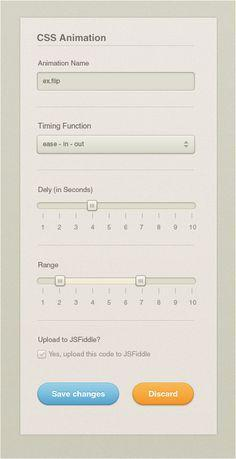button: (37, 382, 121, 406), (132, 383, 195, 406)
checkbox: (38, 351, 48, 360)
dropdown: (39, 136, 196, 155)
input: (38, 73, 195, 91)
label: (49, 350, 153, 360), (38, 335, 104, 346), (38, 185, 95, 196), (36, 121, 93, 131), (37, 60, 92, 69), (38, 262, 61, 271)
slider: (37, 275, 198, 288), (38, 200, 198, 212)
